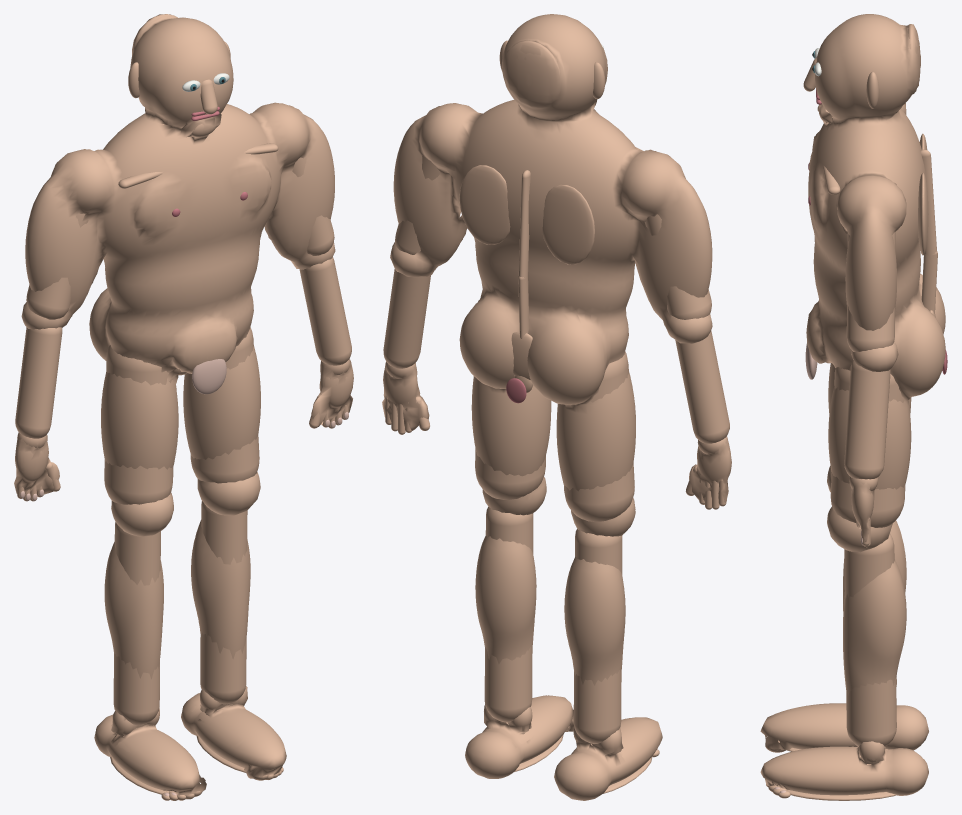
File: body-junger-erwachsener-divers-v2.glb
3 views of the same model, side by side, from view 1: azimuth 30°, elevation 25°; view 2: azimuth 150°, elevation 25°; view 3: azimuth 270°, elevation 25° (orthographic). The views are drawn at different scales.
Visible parts, largest first — view 1: zone__visual-surface-body-junger-erwachsener-divers, zone__surface-lower-leg-right, zone__surface-lower-leg-left, zone__surface-forearm-left, zone__surface-thigh-left, zone__surface-forearm-right, zone__surface-thigh-right, zone__surface-upper-arm-left, zone__surface-upper-arm-right, zone__surface-genital-observation-deferred; view 2: zone__visual-surface-body-junger-erwachsener-divers, zone__surface-lower-leg-right, zone__surface-lower-leg-left, zone__surface-forearm-left, zone__surface-forearm-right, zone__surface-scapula-left, zone__surface-scapula-right, zone__surface-thigh-left, zone__surface-thigh-right, zone__surface-upper-arm-left, zone__surface-thoracic-spine, zone__surface-upper-arm-right (+1 smaller); view 3: zone__visual-surface-body-junger-erwachsener-divers, zone__surface-lower-leg-right, zone__surface-forearm-right, zone__surface-thigh-right, zone__surface-upper-arm-right, zone__surface-thoracic-spine, zone__surface-lumbar-spine, zone__surface-scapula-right, zone__surface-sole-right, zone__surface-ear-right.
Boxes of the visible parts, left/top/right/bottom form: zone__visual-surface-body-junger-erwachsener-divers: left=14, top=14, right=353, bottom=795; zone__surface-lower-leg-right: left=200, top=501, right=247, bottom=704; zone__surface-lower-leg-left: left=113, top=522, right=160, bottom=725; zone__surface-forearm-left: left=15, top=327, right=62, bottom=438; zone__surface-thigh-left: left=104, top=345, right=173, bottom=504; zone__surface-forearm-right: left=299, top=257, right=351, bottom=365; zone__surface-thigh-right: left=190, top=327, right=259, bottom=483; zone__surface-upper-arm-left: left=26, top=213, right=88, bottom=319; zone__surface-upper-arm-right: left=292, top=157, right=334, bottom=255; zone__surface-genital-observation-deferred: left=192, top=359, right=226, bottom=394; zone__visual-surface-body-junger-erwachsener-divers: left=382, top=14, right=731, bottom=800; zone__surface-lower-leg-right: left=484, top=507, right=533, bottom=722; zone__surface-lower-leg-left: left=573, top=529, right=622, bottom=743; zone__surface-forearm-left: left=675, top=330, right=729, bottom=443; zone__surface-forearm-right: left=383, top=269, right=430, bottom=368; zone__surface-scapula-left: left=542, top=184, right=594, bottom=264; zone__surface-scapula-right: left=459, top=165, right=510, bottom=244; zone__surface-thigh-left: left=564, top=351, right=634, bottom=521; zone__surface-thigh-right: left=475, top=448, right=545, bottom=499; zone__surface-upper-arm-left: left=644, top=214, right=711, bottom=319; zone__surface-thoracic-spine: left=518, top=170, right=530, bottom=282; zone__surface-upper-arm-right: left=395, top=156, right=440, bottom=254; zone__visual-surface-body-junger-erwachsener-divers: left=760, top=14, right=945, bottom=795; zone__surface-lower-leg-right: left=844, top=533, right=896, bottom=746; zone__surface-forearm-right: left=844, top=360, right=890, bottom=479; zone__surface-thigh-right: left=830, top=367, right=905, bottom=527; zone__surface-upper-arm-right: left=846, top=232, right=895, bottom=351; zone__surface-thoracic-spine: left=920, top=149, right=936, bottom=259; zone__surface-lumbar-spine: left=921, top=251, right=937, bottom=313; zone__surface-scapula-right: left=918, top=173, right=928, bottom=255; zone__surface-sole-right: left=787, top=789, right=896, bottom=800; zone__surface-ear-right: left=866, top=72, right=879, bottom=108.
Size of the model in its own units: 0.8258 by 1.72 by 0.3879.
